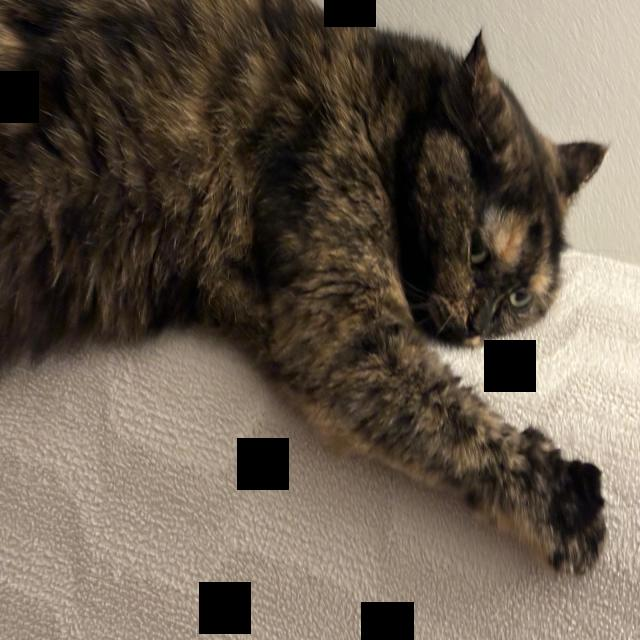authorized: (1, 0, 610, 576)
